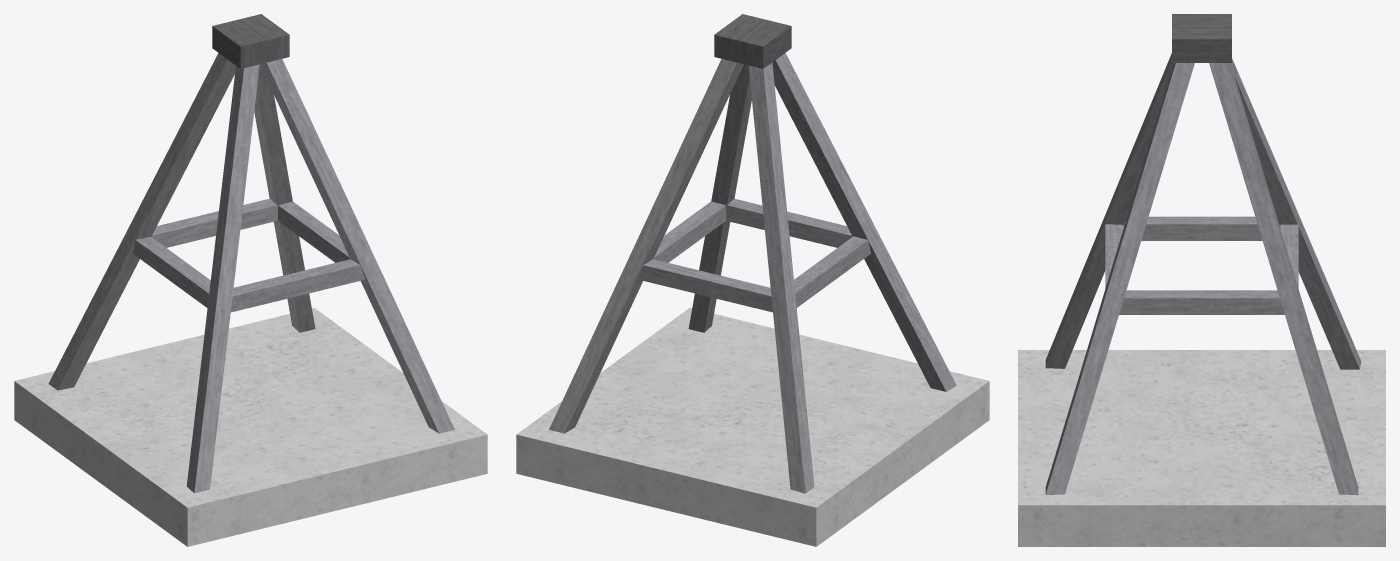
Rendered from pivot-irrigator-pivot-cbj_LOD00.gltf.
3 renders of one model, left to right at view 1: azimuth 30°, elevation 25°; view 2: azimuth 150°, elevation 25°; view 3: azimuth 270°, elevation 25°, orthographic. The views are drawn at different scales.
Parts seen in each view (by area): view 1: Plane; view 2: Plane; view 3: Plane.
Boxes of the visible parts, x1,y1,x2,y2 form: Plane: [14, 14, 487, 546]; Plane: [516, 14, 989, 546]; Plane: [1018, 14, 1385, 546].
Bounding box in the file's own units: 4 × 5.31 × 4.
